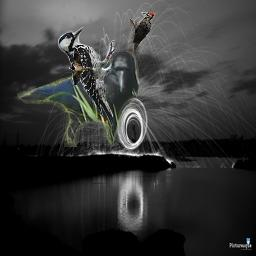Crow: (17, 51, 139, 147)
Swallow: (69, 47, 98, 86)
Woodpecker: (57, 27, 117, 135), (130, 12, 155, 54)
